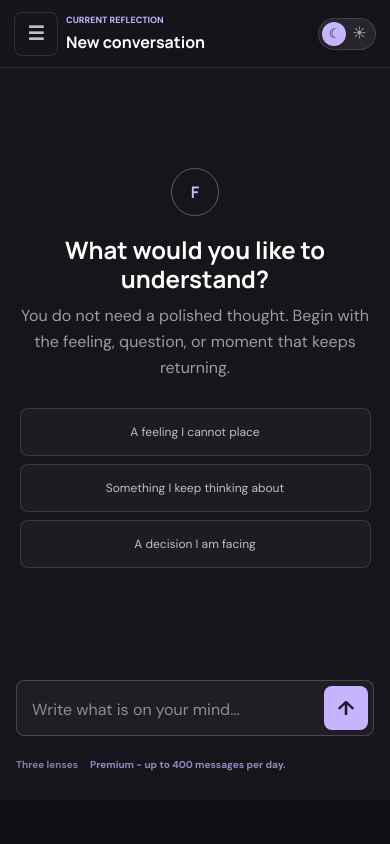
it: real Chat shell/composer/history/stream › mobile selecting conversation closes original drawer and retains selected active state
The image size is (390, 844).
Expected: the text box named "Message FeelY" is enabled, [22, 688, 314, 730]
Click the button named "Open conversations": (36, 34) [14, 12, 58, 56]
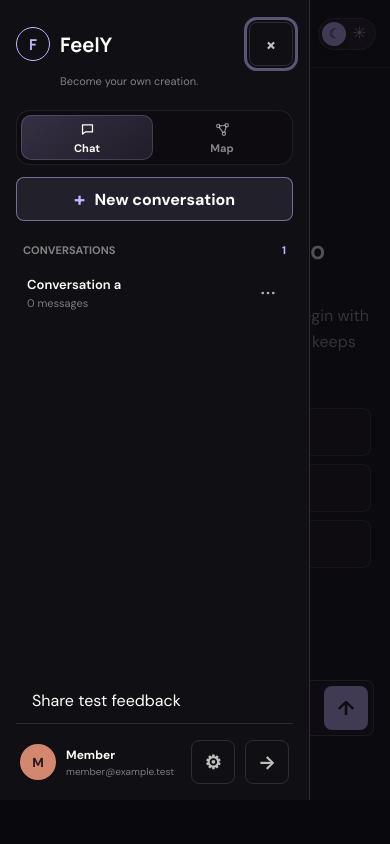
Click the button "Conversation a 0 messages": (74, 284) [16, 266, 291, 320]
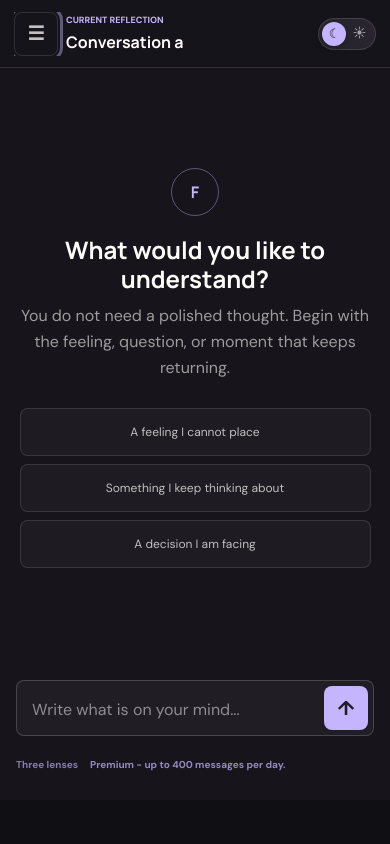
Result: the heading "Conversation a" is shown at [66, 32, 184, 53]
Result: the button named "Open conversations" is collapsed at [14, 12, 58, 56]
